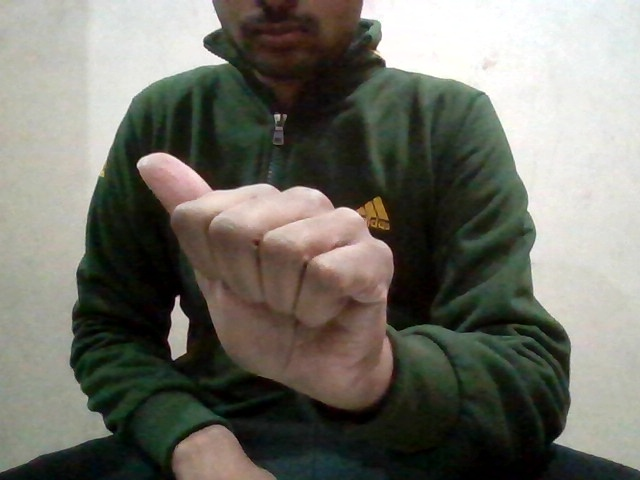A: (132, 147, 442, 415)
